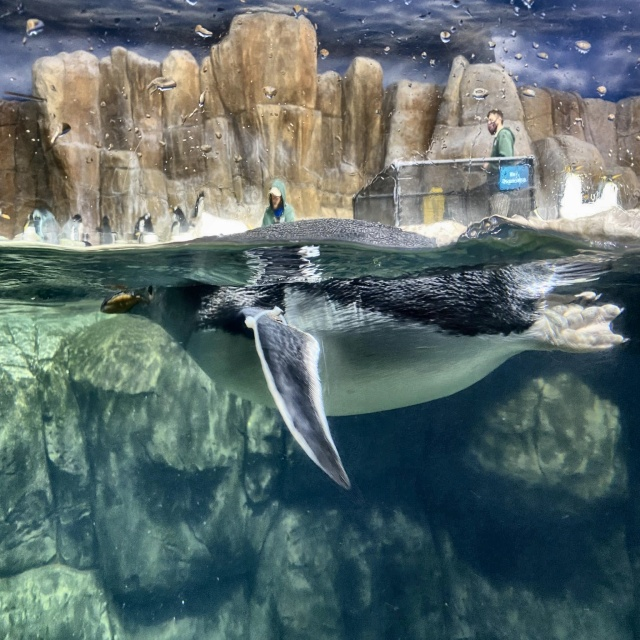penguin: (102, 245, 629, 491), (556, 165, 583, 221), (596, 172, 622, 209), (37, 209, 58, 245), (169, 206, 189, 238), (64, 212, 83, 243), (96, 215, 117, 243), (135, 212, 152, 243), (25, 211, 36, 238), (194, 190, 205, 217)
